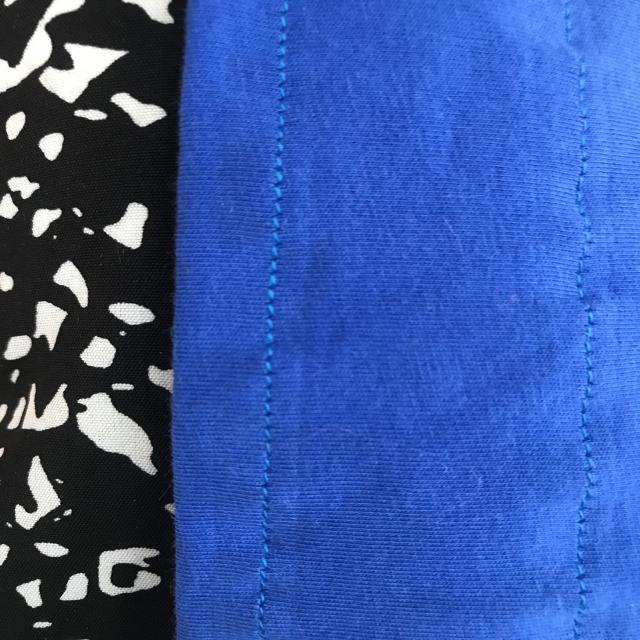good: (254, 218, 292, 404), (271, 27, 294, 197)
